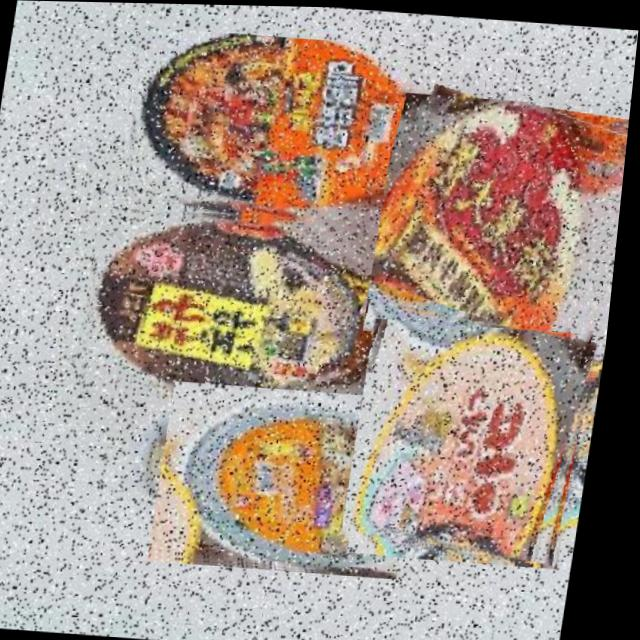Miscellaneous: (110, 26, 492, 240), (76, 198, 427, 416), (366, 90, 634, 361), (348, 316, 610, 562), (157, 380, 435, 578)
